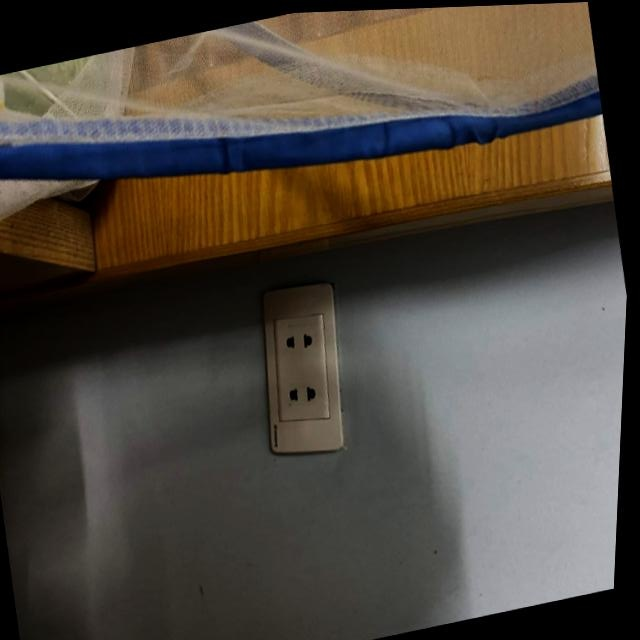outlet: (242, 274, 364, 465)
